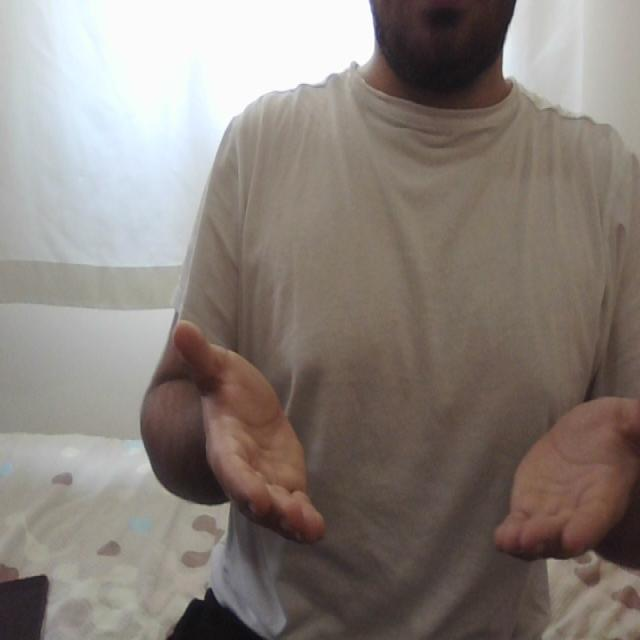Evet: (170, 316, 640, 567)
